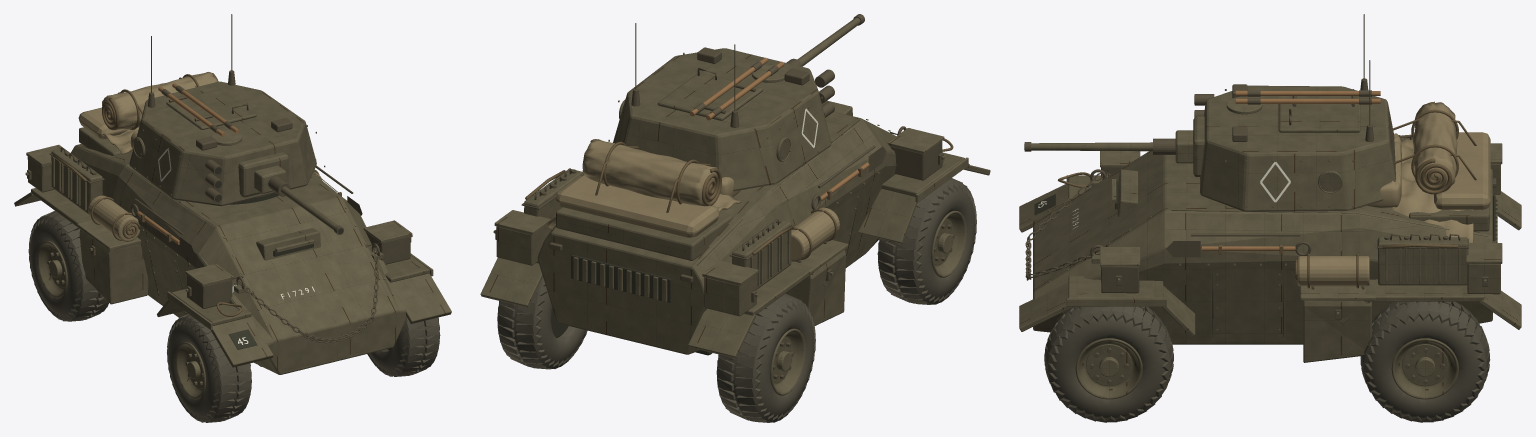
File: reference-armored-car-medium.glb
3 renders of one model, left to right at view 1: azimuth 30°, elevation 25°; view 2: azimuth 150°, elevation 25°; view 3: azimuth 270°, elevation 25°, orthographic. The views are drawn at different scales.
Parts seen in each view (by area): view 1: hull--armor, turret-pivot--armor, front-fenders--armor, wheel-left-front--rubber, wheel-left-rear--rubber, rear-stowage--canvas, side-boxes--armor, wheel-right-front--rubber, hull--armor-edge, front-fenders--armor-edge, front-fenders--steel, hatch--armor (+15 smaller); view 2: hull--armor, turret-pivot--armor, rear-stowage--canvas, wheel-left-rear--rubber, wheel-left-front--rubber, rear-fenders--armor, wheel-right-rear--rubber, front-fenders--armor, rear-boxes--armor, rear-stowage--armor, side-boxes--armor, hatch--armor (+17 smaller); view 3: hull--armor, turret-pivot--armor, rear-stowage--canvas, wheel-right-rear--rubber, wheel-right-front--rubber, hull--armor-edge, front-fenders--armor, side-boxes--armor, rear-stowage--armor, rear-fenders--armor, wheel-right-front--armor, wheel-right-rear--armor (+16 smaller).
Part boxes in pixels (x1,y1,x2,y2): hull--armor: (71,127,406,374); turret-pivot--armor: (129,81,316,206); front-fenders--armor: (157,256,451,367); wheel-left-front--rubber: (167,314,251,422); wheel-left-rear--rubber: (28,211,108,321); rear-stowage--canvas: (78,72,322,241); side-boxes--armor: (79,230,148,304); wheel-right-front--rubber: (367,317,440,376); hull--armor-edge: (75,145,339,316); front-fenders--armor-edge: (167,220,433,329); front-fenders--steel: (187,231,410,308); hatch--armor: (166,89,256,129); hull--armor: (537,100,896,354); turret-pivot--armor: (613,48,831,191); rear-stowage--canvas: (546,139,839,261); wheel-left-rear--rubber: (716,293,815,422); wheel-left-front--rubber: (877,178,976,304); rear-fenders--armor: (480,257,826,358); wheel-right-rear--rubber: (497,277,587,369); front-fenders--armor: (858,152,990,243); rear-boxes--armor: (496,225,756,316); rear-stowage--armor: (524,169,791,289); side-boxes--armor: (785,250,845,325); hatch--armor: (658,73,763,120); hull--armor: (1033,151,1497,344); turret-pivot--armor: (1200,85,1395,211); rear-stowage--canvas: (1297,102,1490,286); wheel-right-rear--rubber: (1360,301,1490,422); wheel-right-front--rubber: (1044,306,1173,422); hull--armor-edge: (1112,179,1488,341); front-fenders--armor: (1019,176,1195,336); side-boxes--armor: (1303,300,1371,362); rear-stowage--armor: (1378,137,1468,285); rear-fenders--armor: (1340,191,1521,329); wheel-right-front--armor: (1075,338,1142,399); wheel-right-rear--armor: (1391,338,1458,399).
Bounding box in the file's own units: 2.76 × 3.32 × 4.61.
10 materials, 9 textured.
